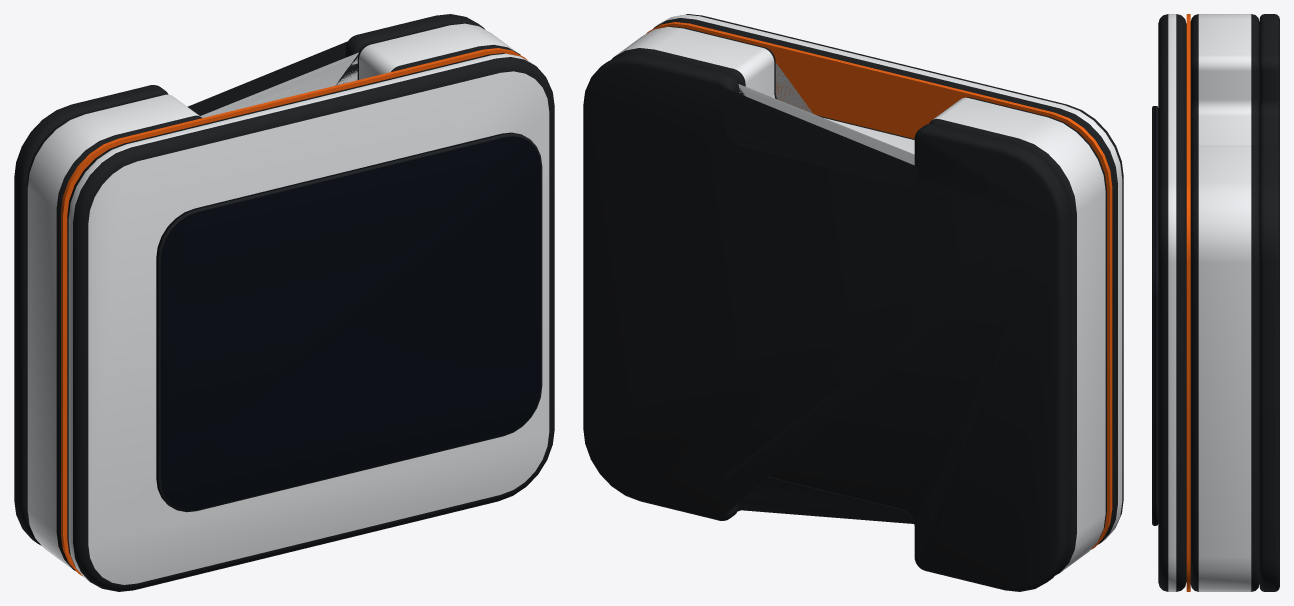
3 renders of one model, left to right at view 1: azimuth 30°, elevation 25°; view 2: azimuth 150°, elevation 25°; view 3: azimuth 270°, elevation 25°, orthographic. The views are drawn at different scales.
Parts seen in each view (by area): view 1: base_link_visual.001; view 2: base_link_visual.001; view 3: base_link_visual.001.
Part boxes in pixels (bbox=[...]): base_link_visual.001: bbox=[14, 14, 554, 591]; base_link_visual.001: bbox=[583, 14, 1123, 591]; base_link_visual.001: bbox=[1152, 14, 1279, 591].
Size of the model in its own units: 0.5 by 0.44 by 0.126.
